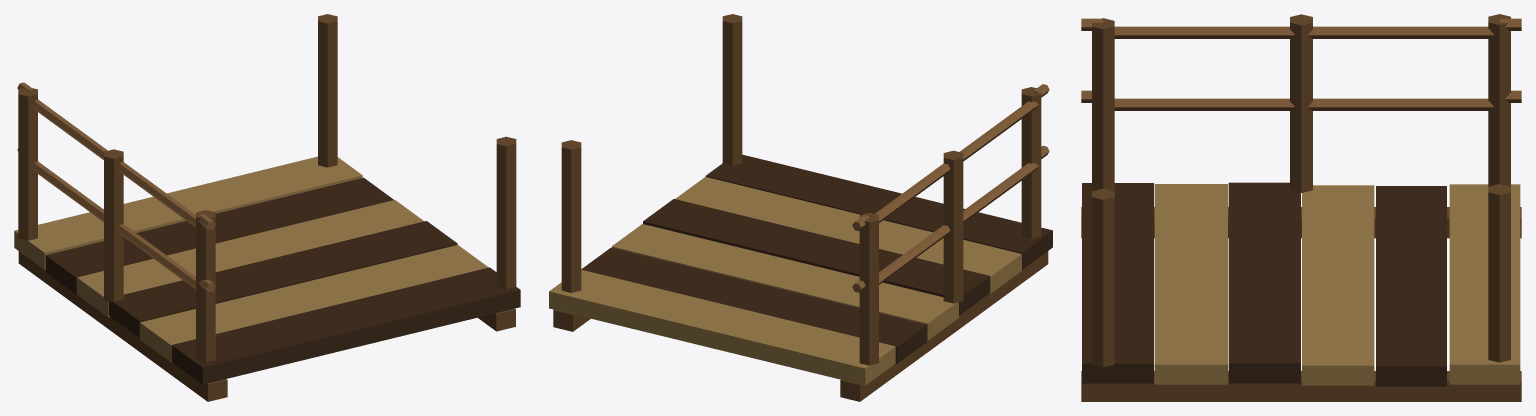
Rendered from bridge_tjunction.obj.
3 views of the same model, side by side, from view 1: azimuth 30°, elevation 25°; view 2: azimuth 150°, elevation 25°; view 3: azimuth 270°, elevation 25° (orthographic). The views are drawn at different scales.
Parts seen in each view (by area): view 1: geometry_5, geometry_3, geometry_4, geometry_0, geometry_1, geometry_2, geometry_21, geometry_19, geometry_8, geometry_9, geometry_6, geometry_10 (+5 smaller); view 2: geometry_0, geometry_2, geometry_3, geometry_1, geometry_5, geometry_4, geometry_19, geometry_21, geometry_9, geometry_8, geometry_6, geometry_10 (+5 smaller); view 3: geometry_4, geometry_3, geometry_2, geometry_1, geometry_0, geometry_5, geometry_7, geometry_19, geometry_21, geometry_9, geometry_10, geometry_8 (+4 smaller).
Part boxes in pixels (box(x1,y1,x2,y2)): geometry_5: box(171, 267, 520, 384); geometry_3: box(108, 221, 457, 338); geometry_4: box(140, 245, 488, 362); geometry_0: box(14, 156, 362, 269); geometry_1: box(45, 177, 393, 294); geometry_2: box(77, 200, 423, 317); geometry_21: box(496, 136, 516, 289); geometry_19: box(318, 14, 337, 167); geometry_8: box(18, 88, 37, 240); geometry_9: box(104, 149, 123, 302); geometry_6: box(18, 251, 227, 401); geometry_10: box(196, 210, 215, 362); geometry_0: box(549, 269, 895, 385); geometry_2: box(611, 224, 958, 340); geometry_3: box(643, 199, 990, 315); geometry_1: box(581, 248, 926, 363); geometry_5: box(705, 154, 1052, 269); geometry_4: box(675, 177, 1021, 293); geometry_19: box(561, 140, 581, 292); geometry_21: box(722, 14, 742, 165); geometry_9: box(943, 150, 963, 303); geometry_8: box(859, 212, 878, 365); geometry_6: box(840, 251, 1048, 401); geometry_10: box(1021, 87, 1041, 238); geometry_4: box(1154, 184, 1227, 384); geometry_3: box(1228, 182, 1300, 383); geometry_2: box(1302, 185, 1374, 385); geometry_1: box(1376, 186, 1446, 386); geometry_0: box(1449, 184, 1520, 384); geometry_5: box(1082, 183, 1153, 383); geometry_7: box(1081, 371, 1521, 401); geometry_19: box(1488, 184, 1510, 362); geometry_21: box(1092, 188, 1114, 367); geometry_9: box(1290, 14, 1312, 192); geometry_10: box(1092, 18, 1114, 191); geometry_8: box(1488, 14, 1510, 186).
Bounding box in the file's own units: 0.9987 × 0.5237 × 1.
